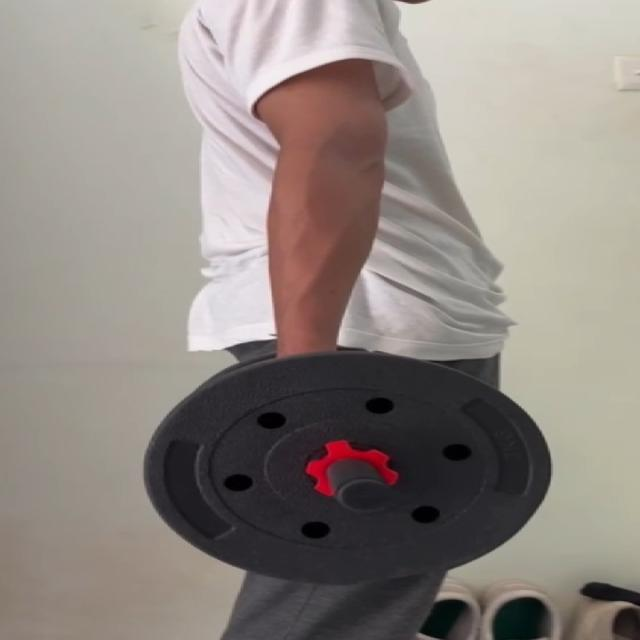dumbbell: (139, 350, 557, 582)
